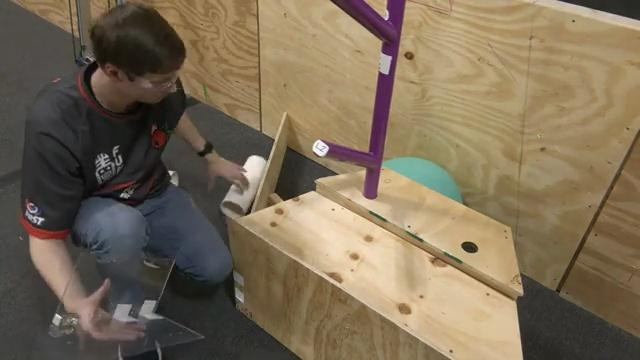CORAL: (219, 153, 267, 219)
